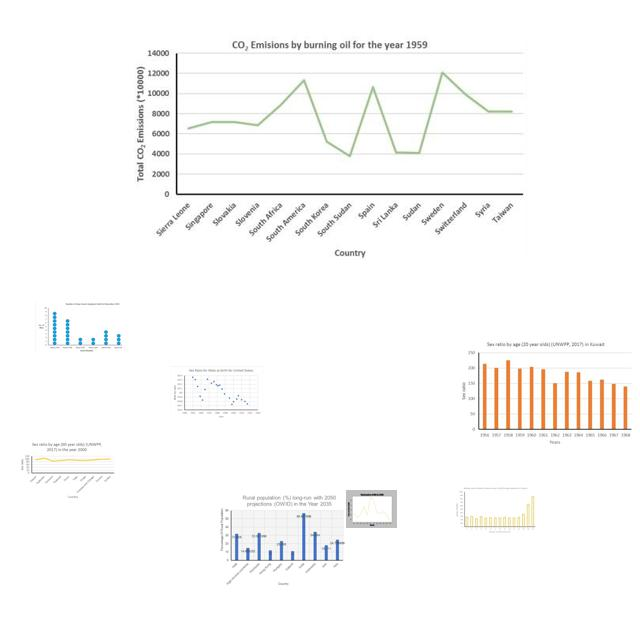Graph: (134, 36, 527, 260), (456, 338, 635, 448), (218, 493, 346, 588), (18, 441, 117, 500), (170, 366, 263, 421), (35, 302, 122, 353), (454, 486, 537, 535), (346, 490, 397, 528)
